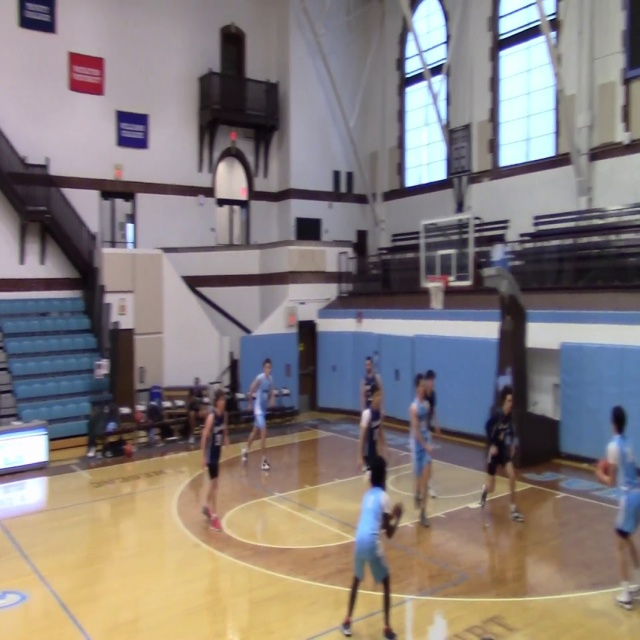Basketball: (598, 459, 610, 476), (123, 444, 135, 457)
